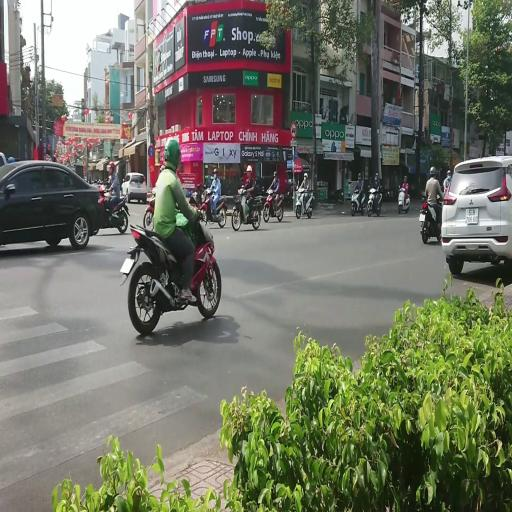bikes: (120, 215, 222, 335), (143, 186, 203, 231), (92, 179, 129, 234), (231, 188, 261, 230), (196, 187, 227, 227), (419, 194, 443, 244), (263, 189, 283, 222), (295, 186, 314, 218), (143, 193, 156, 231), (367, 184, 382, 216), (351, 186, 366, 216), (188, 183, 206, 208), (397, 184, 410, 214), (329, 188, 344, 204)
helmet: (164, 138, 180, 170), (98, 185, 105, 194), (430, 166, 436, 175), (7, 156, 15, 162), (444, 178, 449, 187), (246, 165, 252, 172), (109, 161, 115, 168), (206, 188, 212, 195), (371, 180, 376, 188), (196, 184, 201, 192), (369, 178, 374, 186), (160, 165, 165, 171), (267, 189, 273, 194), (97, 178, 102, 184), (375, 173, 379, 180), (370, 188, 375, 193), (358, 173, 362, 179), (304, 172, 308, 178), (273, 171, 277, 177), (404, 183, 408, 189), (213, 168, 217, 173), (447, 170, 451, 174), (288, 180, 292, 184), (404, 176, 407, 181)
